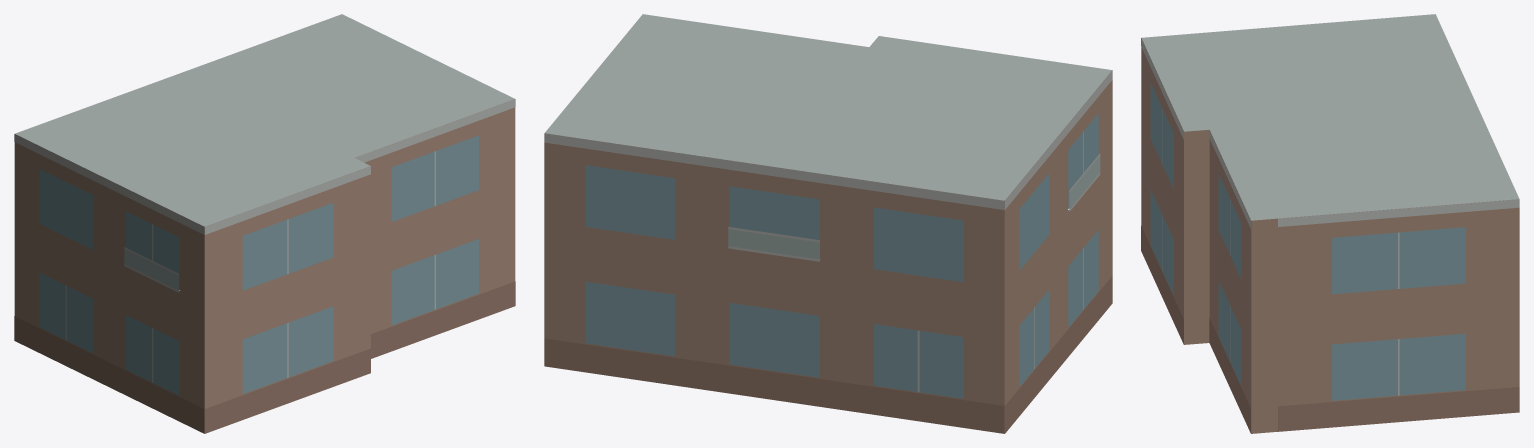
Rendered from survey-upis-32693153.glb.
3 views of the same model, side by side, from view 1: azimuth 30°, elevation 25°; view 2: azimuth 150°, elevation 25°; view 3: azimuth 270°, elevation 25° (orthographic). The views are drawn at different scales.
Parts seen in each view (by area): view 1: survey-upis-32693153.tmp; view 2: survey-upis-32693153.tmp; view 3: survey-upis-32693153.tmp.
Boxes of the visible parts, left/top/right/bottom form: survey-upis-32693153.tmp: left=14, top=14, right=515, bottom=433; survey-upis-32693153.tmp: left=544, top=14, right=1112, bottom=433; survey-upis-32693153.tmp: left=1141, top=14, right=1519, bottom=433.
Bounding box in the file's own units: 12.69 × 6.1 × 9.82.
